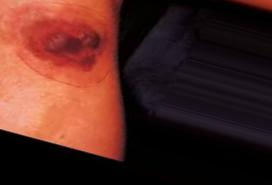Spider: (5, 3, 121, 90)
